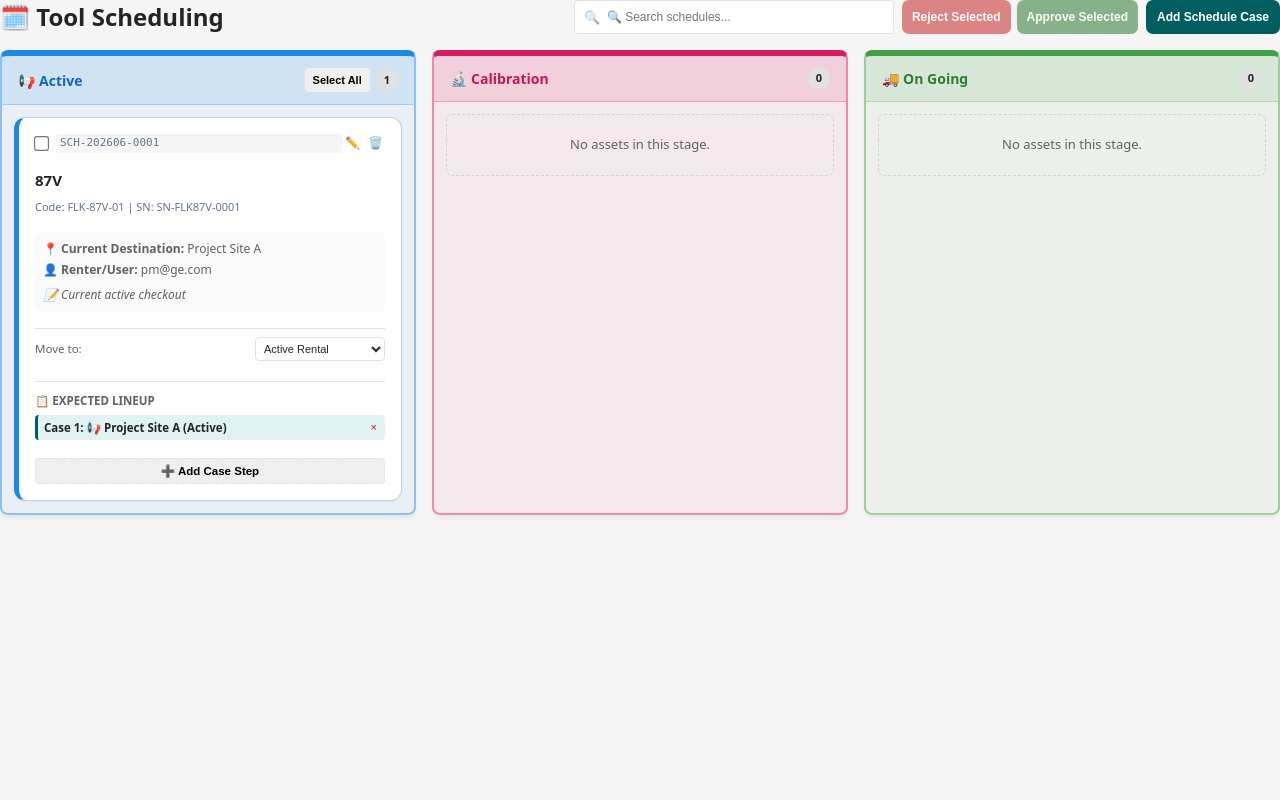
Test case: SchedulingTab Component › renders conditional handover fields and checklist verified options in modal
Expected: the text "SCH-202606-0001" is shown, [56,134,343,152]
Click the button titled "Edit" at {"x": 353, "y": 143}, box [343,134,362,152]
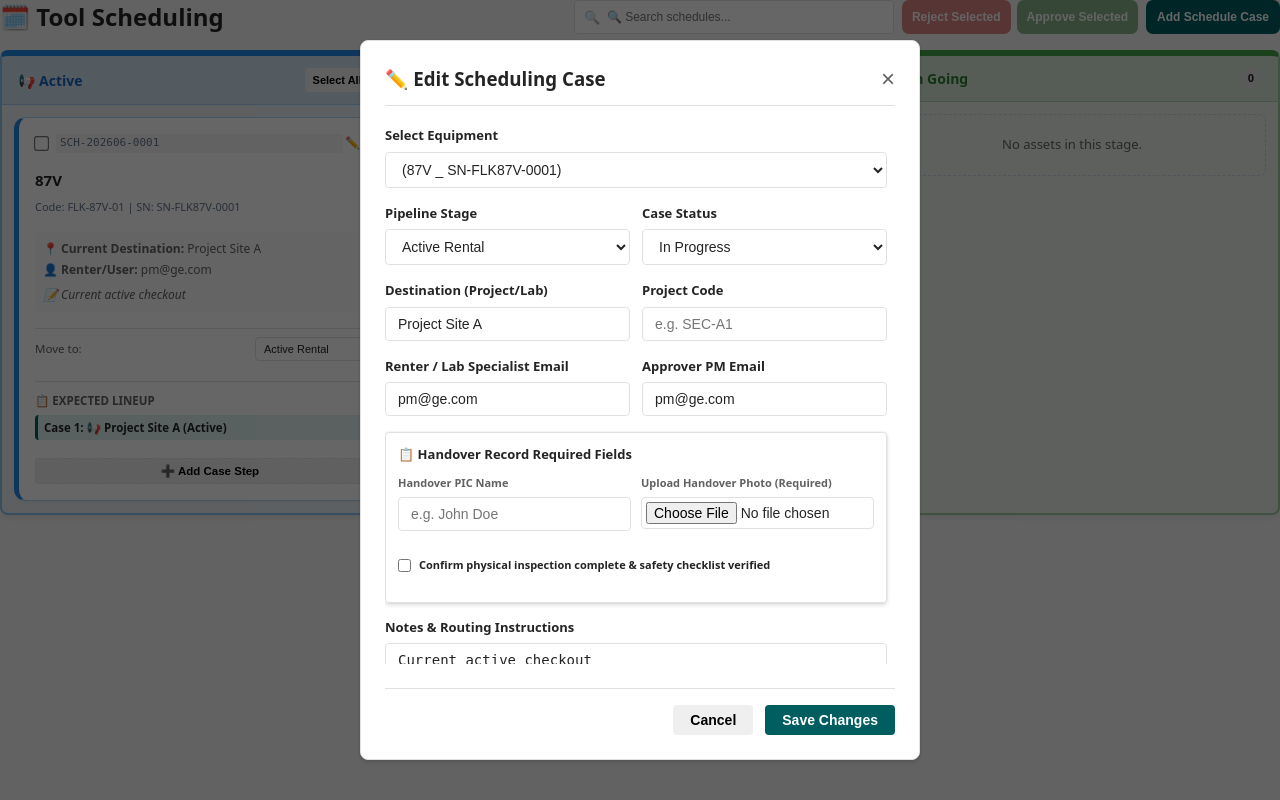
Now the heading "📋 Handover Record Required Fields" is shown, box [398,445,632,463]
Now the text "Handover PIC Name" is shown, box [398,475,508,490]
Now the text "Upload Handover Photo (Required)" is shown, box [641,475,832,490]
